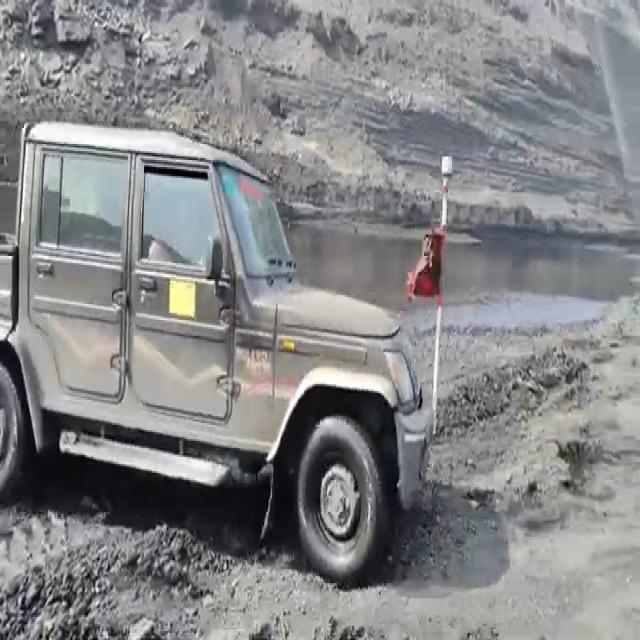light_vehicle: (0, 121, 437, 579)
